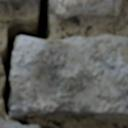brick: (11, 35, 127, 119)
broken_brick: (51, 0, 127, 18), (0, 121, 38, 127), (0, 0, 36, 4)
crack: (0, 0, 51, 126), (38, 125, 56, 127)
